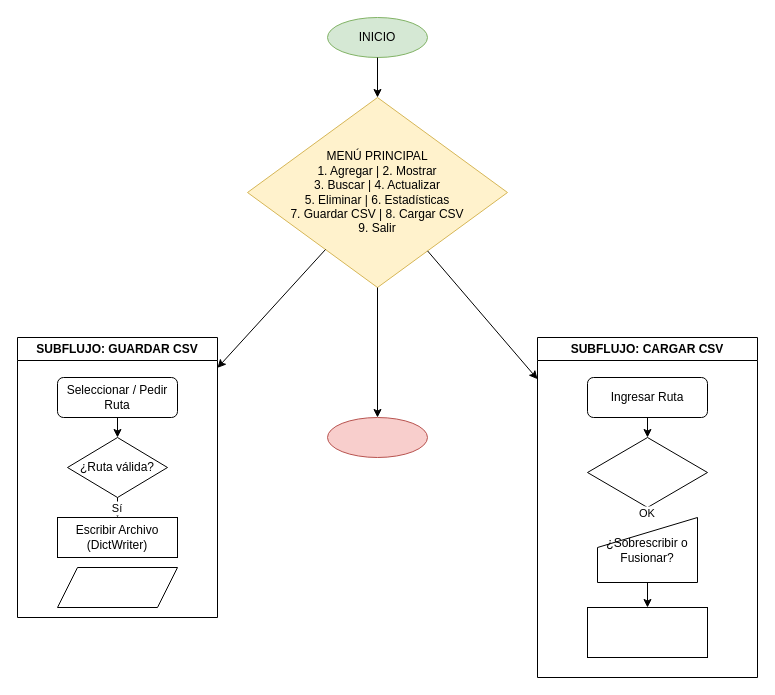
The diagram is 775 pixels wide and 695 high, and some of its shapes have lost their labels. Here are the shapes that lost their labels. From the top down, the centre of each, then its label:
[377,437]: FIN
[647,472]: Validar Formato (Cabeceras)
[117,587]: Mensaje de Éxito
[647,632]: Actualizar Inventario y Mostrar Mensaje
